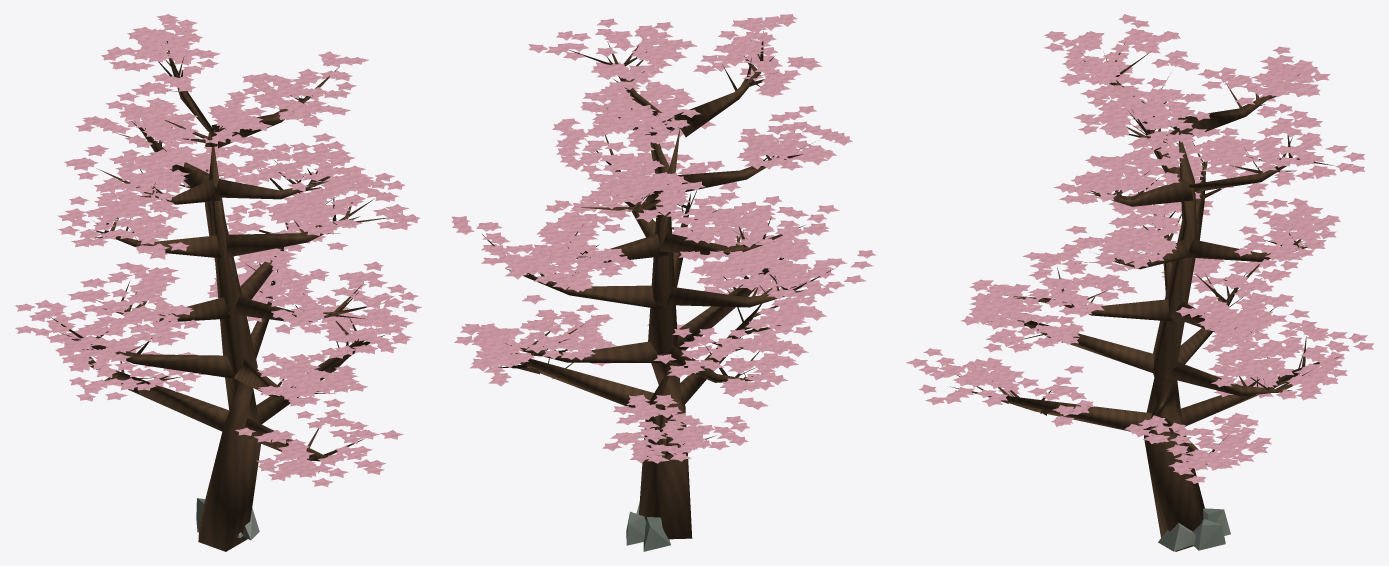
The model's file is v02_peach_0_lod1.fbx.
3 views of the same model, side by side, from view 1: azimuth 30°, elevation 25°; view 2: azimuth 150°, elevation 25°; view 3: azimuth 270°, elevation 25° (orthographic).
Parts seen in each view (by area): view 1: v02_peach_0.004; view 2: v02_peach_0.004; view 3: v02_peach_0.004.
Boxes of the visible parts, x1,y1,x2,y2 form: v02_peach_0.004: [15, 14, 421, 551]; v02_peach_0.004: [451, 14, 876, 551]; v02_peach_0.004: [906, 14, 1373, 551].
Size of the model in its own units: 48650 by 44139 by 55210.
